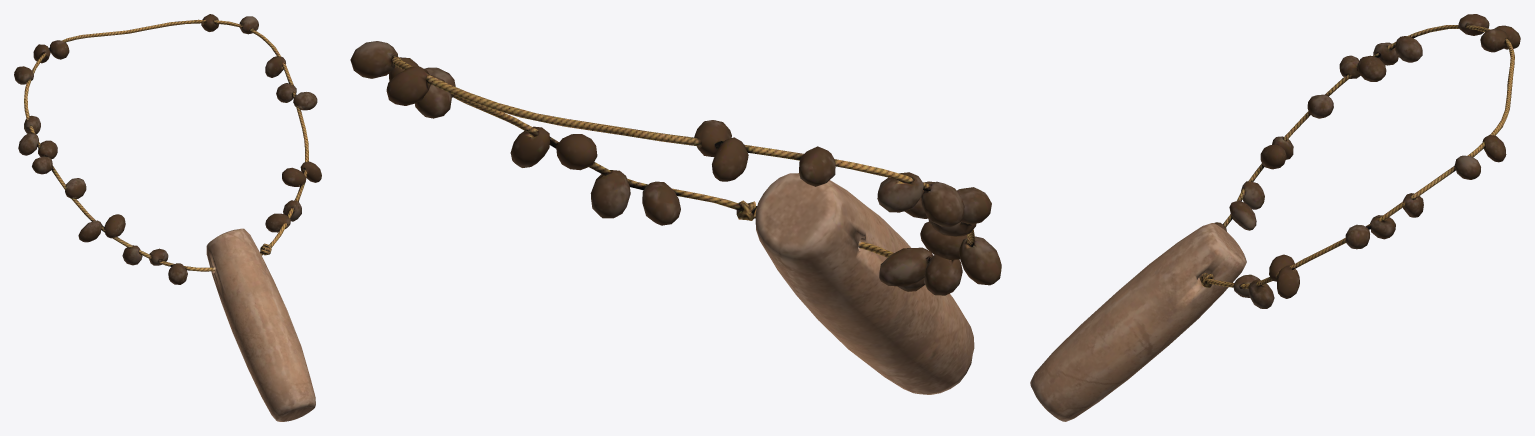
Rendered from SM_CollarCuarzo.glb.
3 renders of one model, left to right at view 1: azimuth 30°, elevation 25°; view 2: azimuth 150°, elevation 25°; view 3: azimuth 270°, elevation 25°, orthographic. The views are drawn at different scales.
Parts seen in each view (by area): view 1: CCuar_Cuarzo_Low, CCuar_Cuerda_Low; view 2: CCuar_Cuerda_Low, CCuar_Cuarzo_Low; view 3: CCuar_Cuarzo_Low, CCuar_Cuerda_Low.
Part boxes in pixels (x1=…): CCuar_Cuarzo_Low: x1=206, y1=228, x2=315, y2=421; CCuar_Cuerda_Low: x1=14, y1=14, x2=321, y2=284; CCuar_Cuerda_Low: x1=350, y1=41, x2=1001, y2=295; CCuar_Cuarzo_Low: x1=755, y1=173, x2=974, y2=394; CCuar_Cuarzo_Low: x1=1030, y1=223, x2=1246, y2=421; CCuar_Cuerda_Low: x1=1199, y1=14, x2=1520, y2=308.
Bounding box in the file's own units: 0.1785 × 0.1631 × 0.2073.
1 material, 1 textured.
